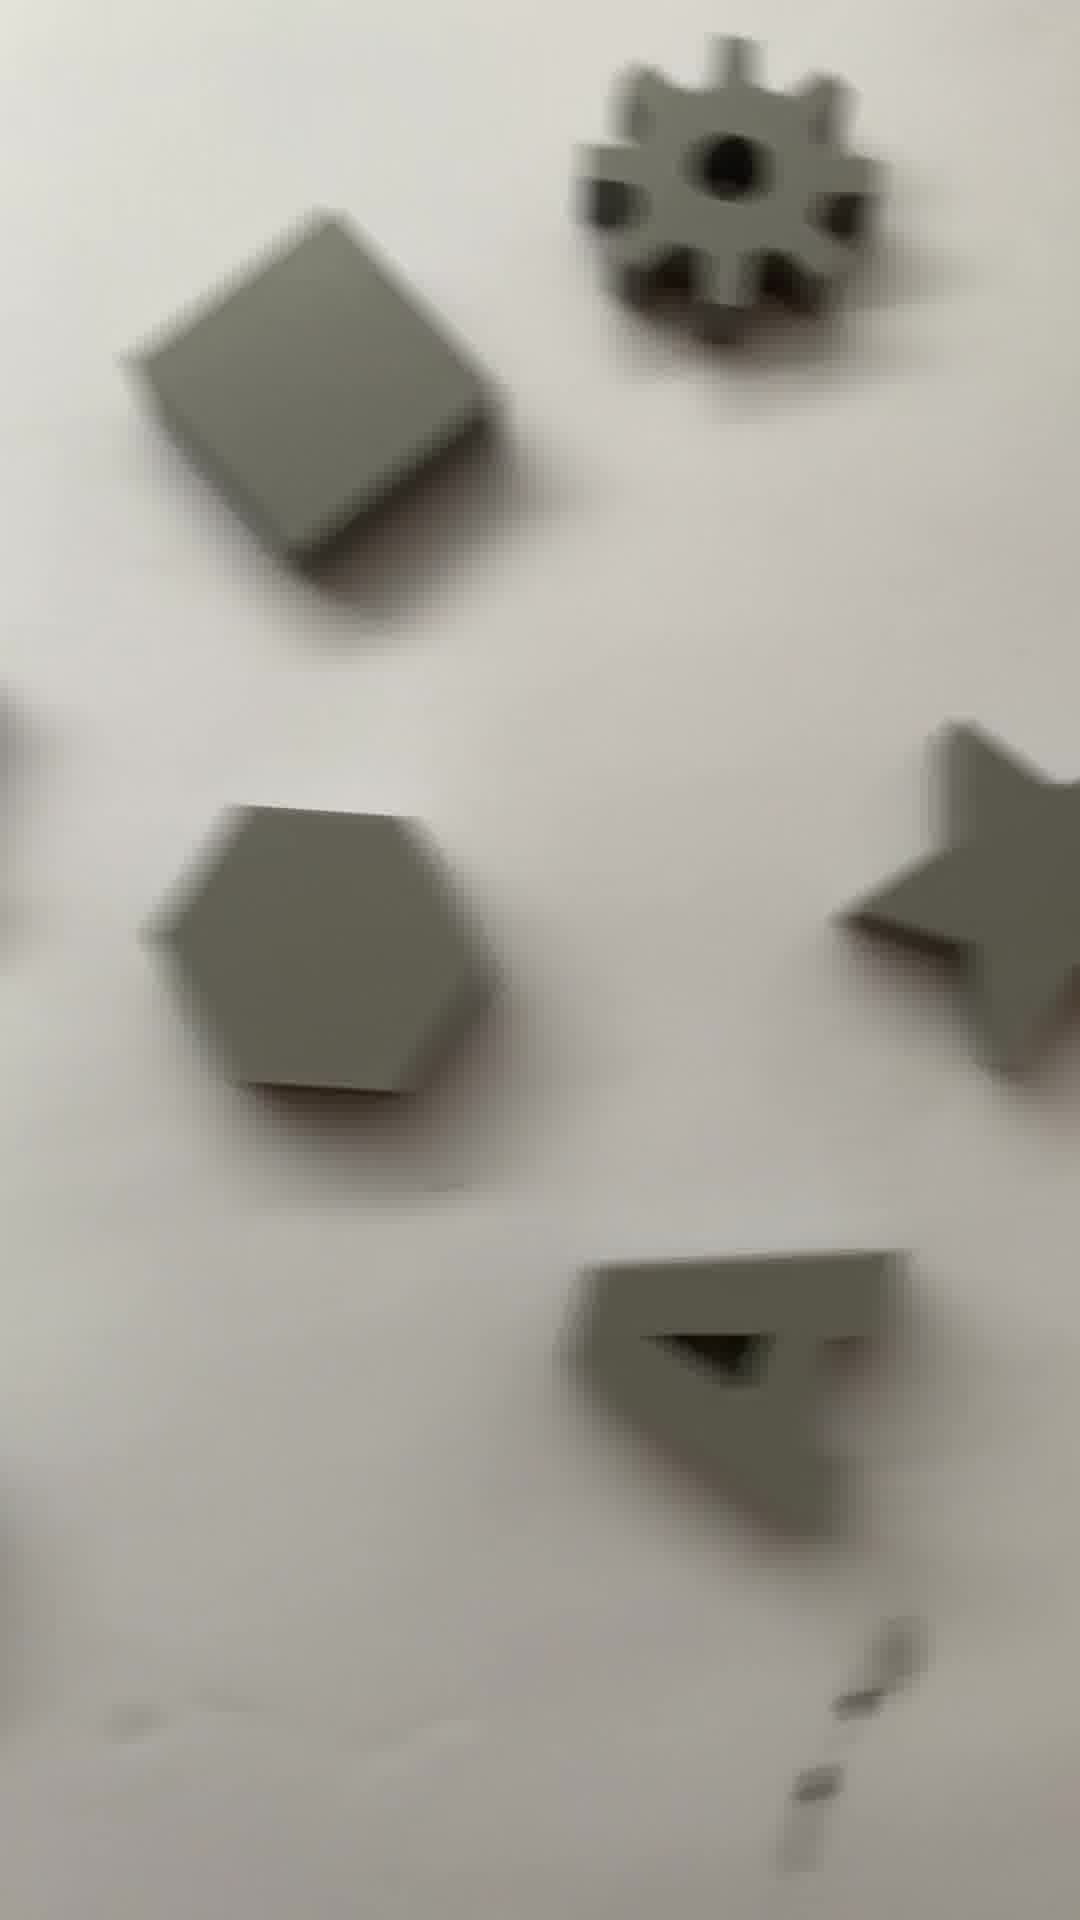Gray A-letter: (553, 1212, 916, 1536)
Gray gear: (584, 57, 874, 334)
Gray hexagon: (138, 800, 500, 1131)
Gray square: (113, 185, 513, 589)
Gray star: (839, 723, 1080, 1095)
